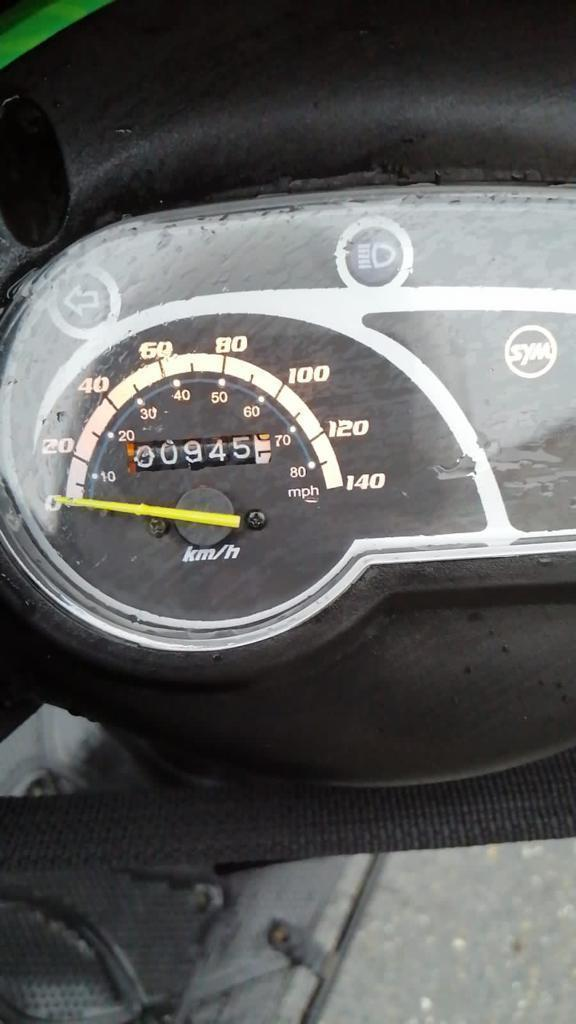0: (158, 437, 179, 469), (133, 444, 155, 471), (126, 429, 135, 442)
4: (207, 440, 227, 464)
5: (230, 433, 253, 462)
7: (257, 449, 273, 465)
9: (182, 436, 202, 467)
odometer: (125, 431, 274, 474)
